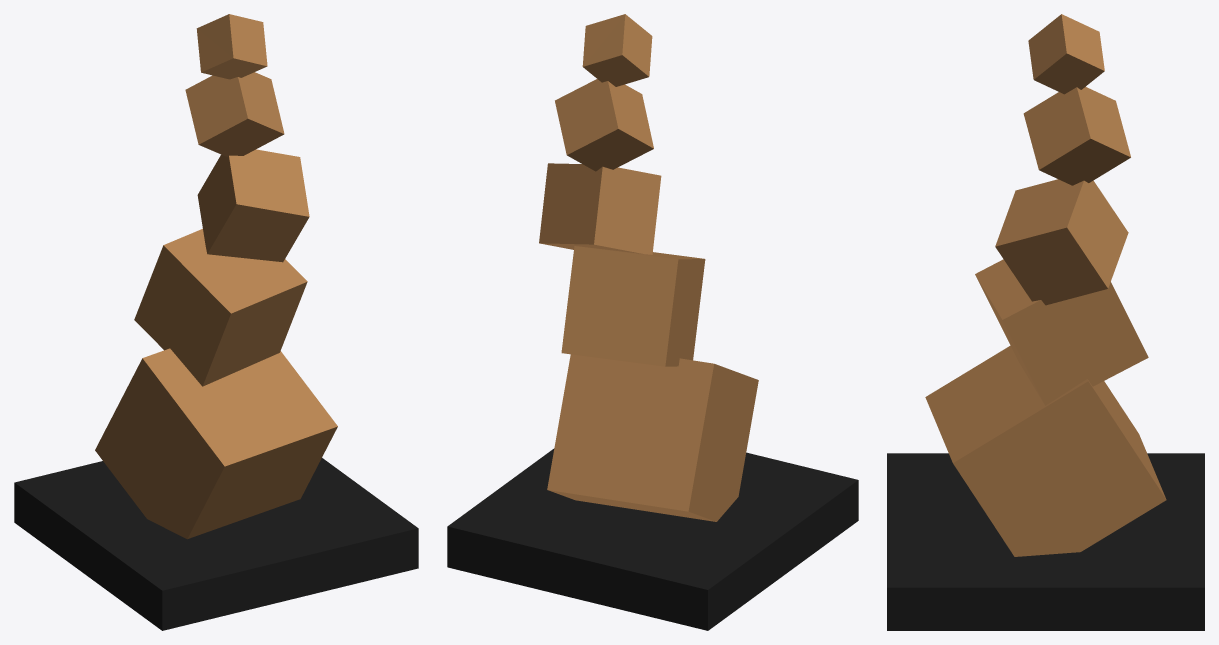
File: sculpture_abstract_spiral.obj
The picture shows the model from 3 angles, left to right: view 1: azimuth 30°, elevation 25°; view 2: azimuth 150°, elevation 25°; view 3: azimuth 270°, elevation 25°; orthographic projection. The views are drawn at different scales.
Visible parts, largest first — view 1: sculpture_abstract_spiral; view 2: sculpture_abstract_spiral; view 3: sculpture_abstract_spiral.
Boxes of the visible parts, x1,y1,x2,y2 form: sculpture_abstract_spiral: [14, 14, 418, 630]; sculpture_abstract_spiral: [447, 14, 858, 630]; sculpture_abstract_spiral: [887, 14, 1204, 630].
Size of the model in its own units: 1 by 1.95 by 1.
